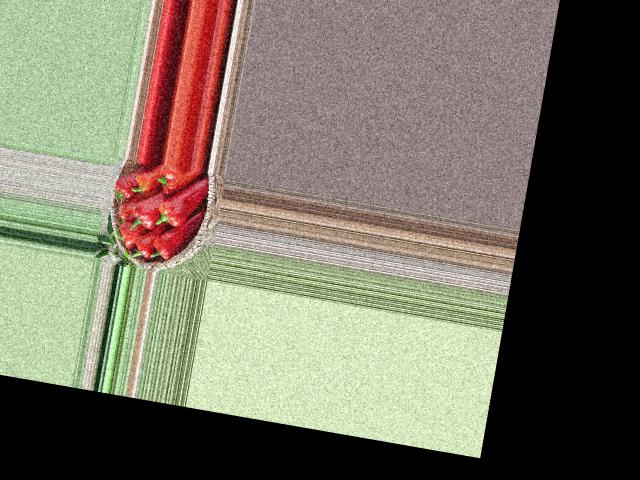bell_pepper: (129, 230, 158, 264)
